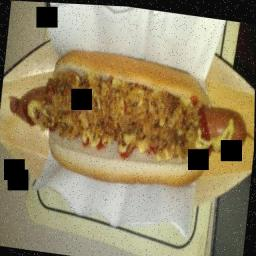hotdog: (198, 97, 255, 154), (6, 78, 55, 124)
